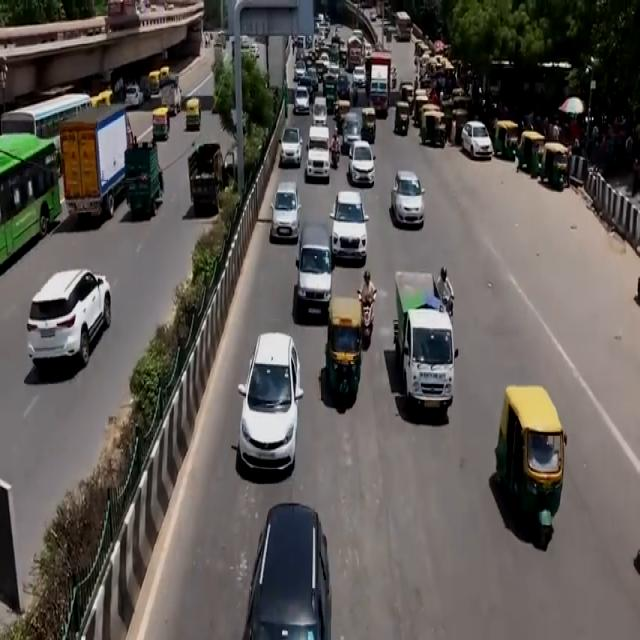BUS: (0, 134, 59, 281)
TRUCK: (397, 280, 458, 422), (59, 107, 127, 224)
